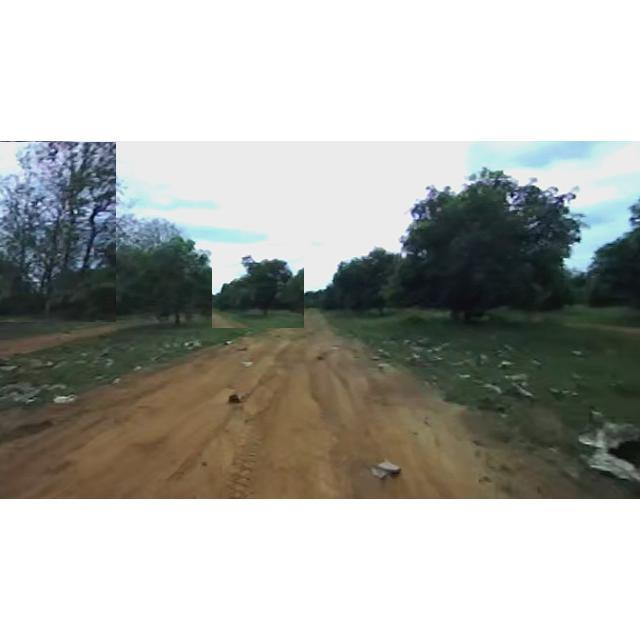tree: (390, 166, 592, 330), (0, 142, 116, 322), (96, 220, 234, 342), (212, 244, 304, 328), (582, 203, 640, 323), (330, 235, 408, 323)
